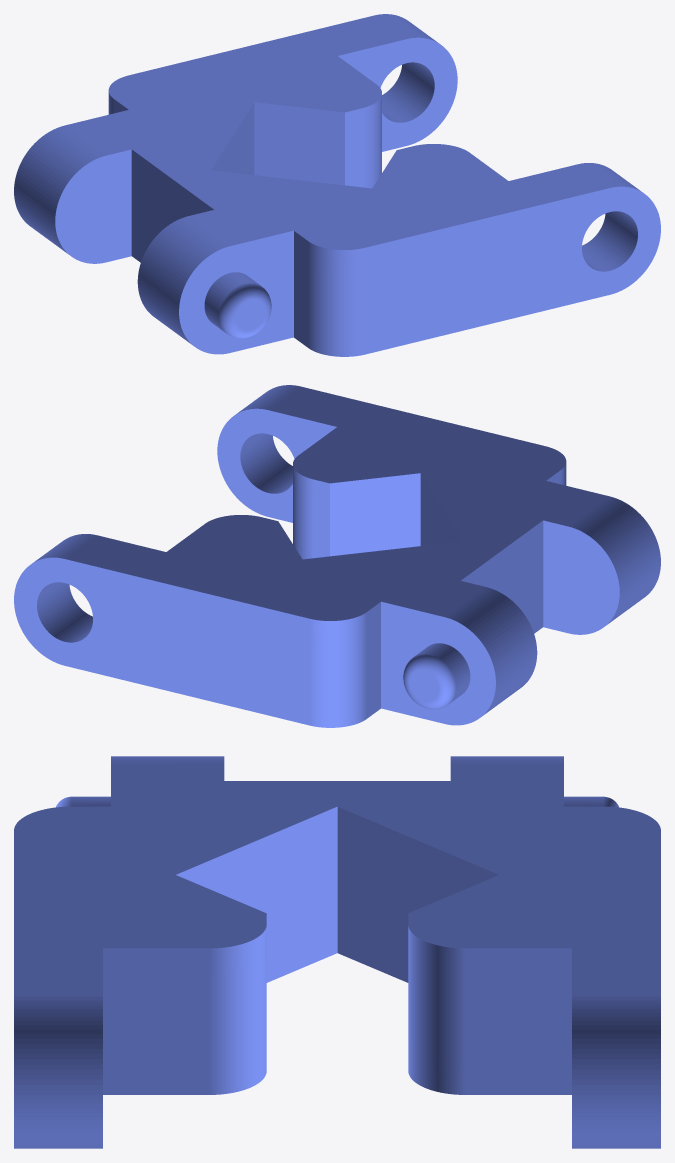
The model's file is Mechacnical_track (100) Yellow.glb.
The picture shows the model from 3 angles, top to bottom: view 1: azimuth 30°, elevation 25°; view 2: azimuth 150°, elevation 25°; view 3: azimuth 270°, elevation 25°; orthographic projection. The views are drawn at different scales.
Parts seen in each view (by area): view 1: Node1; view 2: Node1; view 3: Node1.
Part boxes in pixels (<box>): Node1: <box>14,14,660,356</box>; Node1: <box>14,385,660,727</box>; Node1: <box>14,756,660,1148</box>.
Bounding box in the file's own units: 17.5 × 4 × 16.
